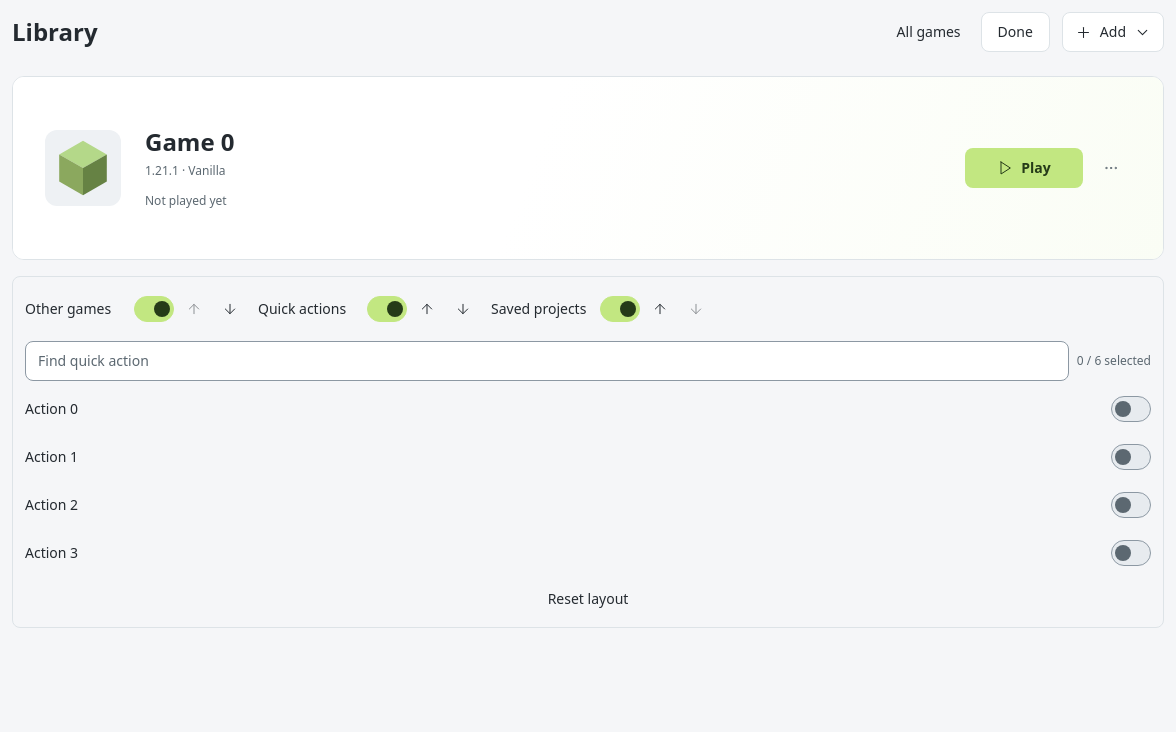
Test: bounds the quick-action editor for a large registry and searches the rest
In the search field named "Find quick action": (547, 361) [25,341,1069,381], type "Action 999"
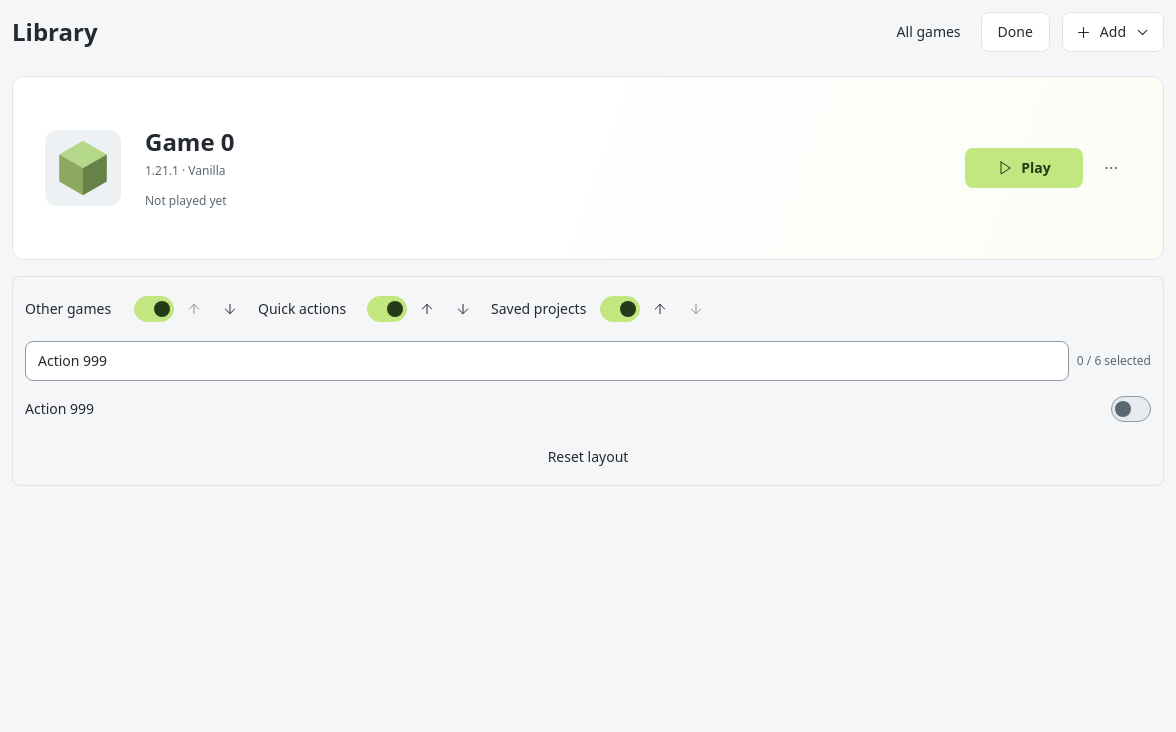
expect the number of elements with class "home-quick-candidate" is 1: met, box [25,389,1151,429]
expect the element with class "home-quick-candidate" reads "Action 999": met, box [25,399,94,418]
